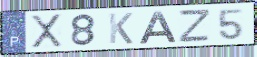5: (217, 7, 246, 41)
8: (70, 12, 98, 47)
A: (137, 10, 178, 45)
K: (107, 12, 134, 45)
X: (28, 13, 65, 50)
Z: (177, 8, 213, 44)
